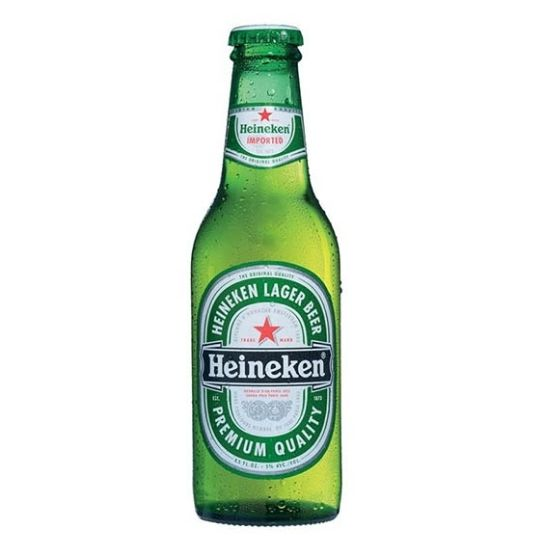glass: (187, 21, 345, 528)
